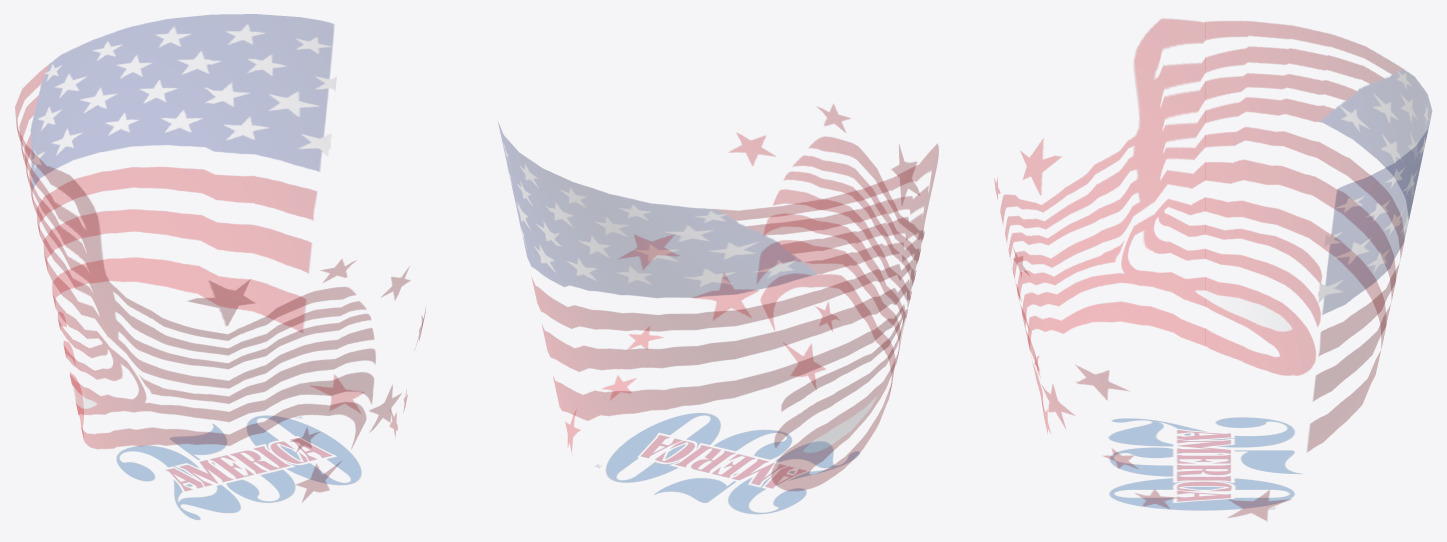
The model's file is America250cup.glb.
The picture shows the model from 3 angles, left to right: view 1: azimuth 30°, elevation 25°; view 2: azimuth 150°, elevation 25°; view 3: azimuth 270°, elevation 25°; orthographic projection.
Visible parts, largest first — view 1: Circle; view 2: Circle; view 3: Circle.
Part boxes in pixels (bbox=[...]): Circle: bbox=[15, 14, 425, 519]; Circle: bbox=[498, 104, 938, 513]; Circle: bbox=[994, 19, 1431, 520].
Bounding box in the file's own units: 2.22 × 1.91 × 2.22.
2 materials, 2 textured.
